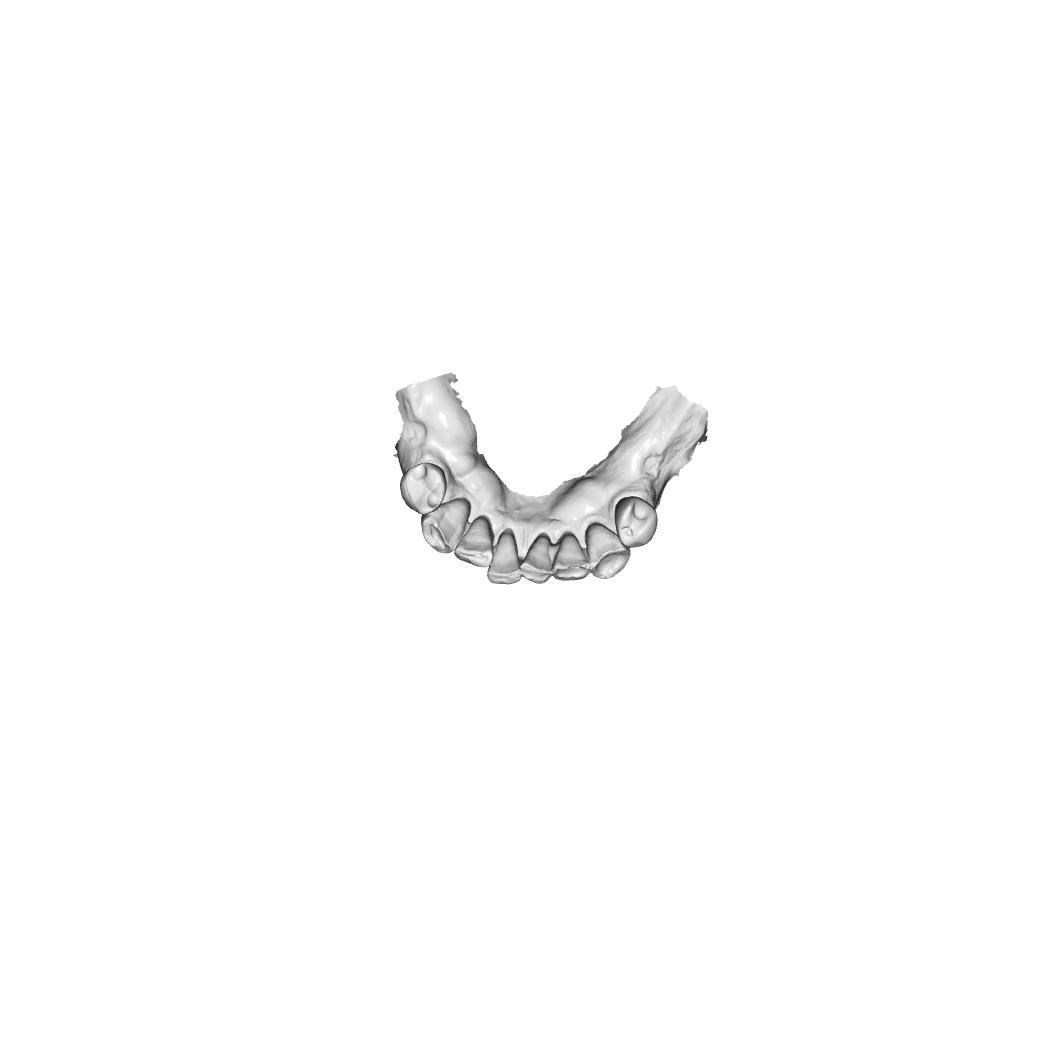canine: (420, 497, 472, 555), (585, 522, 631, 581)
incisor: (453, 516, 495, 569), (486, 528, 521, 586), (551, 533, 590, 583), (519, 533, 553, 585)
premolar: (399, 462, 447, 516), (614, 495, 658, 549)
